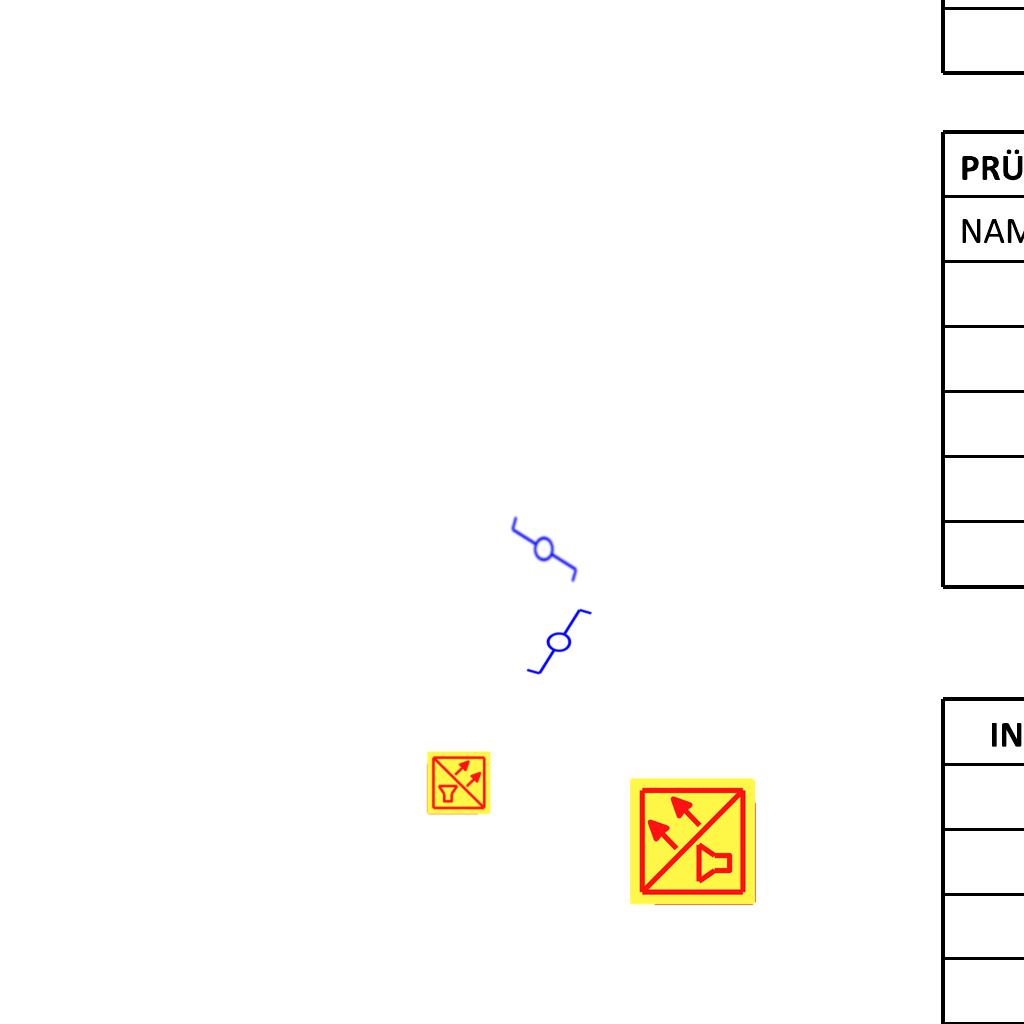OKW_Multisensormelder_(Kombination_optischer_Rauch-Kahlenmonoxid_Waerme-Melder): (627, 775, 759, 907), (426, 750, 492, 816)
Wechselschalter: (516, 605, 594, 677), (509, 506, 581, 584)
